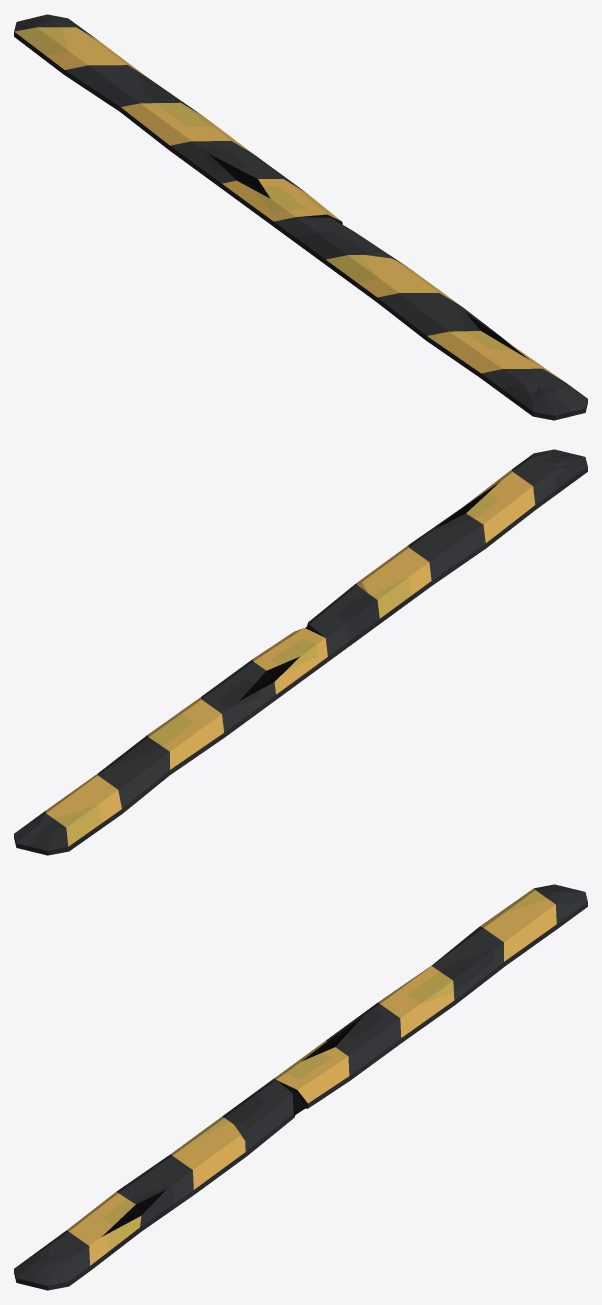
Rendered from SM_Env_Road_SpeedBump_01.obj.
3 renders of one model, top to bottom at view 1: azimuth 30°, elevation 25°; view 2: azimuth 150°, elevation 25°; view 3: azimuth 330°, elevation 25°, orthographic.
Parts seen in each view (by area): view 1: SM_Env_Road_SpeedBump_01_0; view 2: SM_Env_Road_SpeedBump_01_0; view 3: SM_Env_Road_SpeedBump_01_0.
Part boxes in pixels (x1,y1,x2,y2): SM_Env_Road_SpeedBump_01_0: [14, 14, 587, 420]; SM_Env_Road_SpeedBump_01_0: [14, 449, 587, 855]; SM_Env_Road_SpeedBump_01_0: [14, 884, 587, 1290].
Bounding box in the file's own units: 0.5579 × 0.1227 × 8.87.
1 material, 1 textured.
